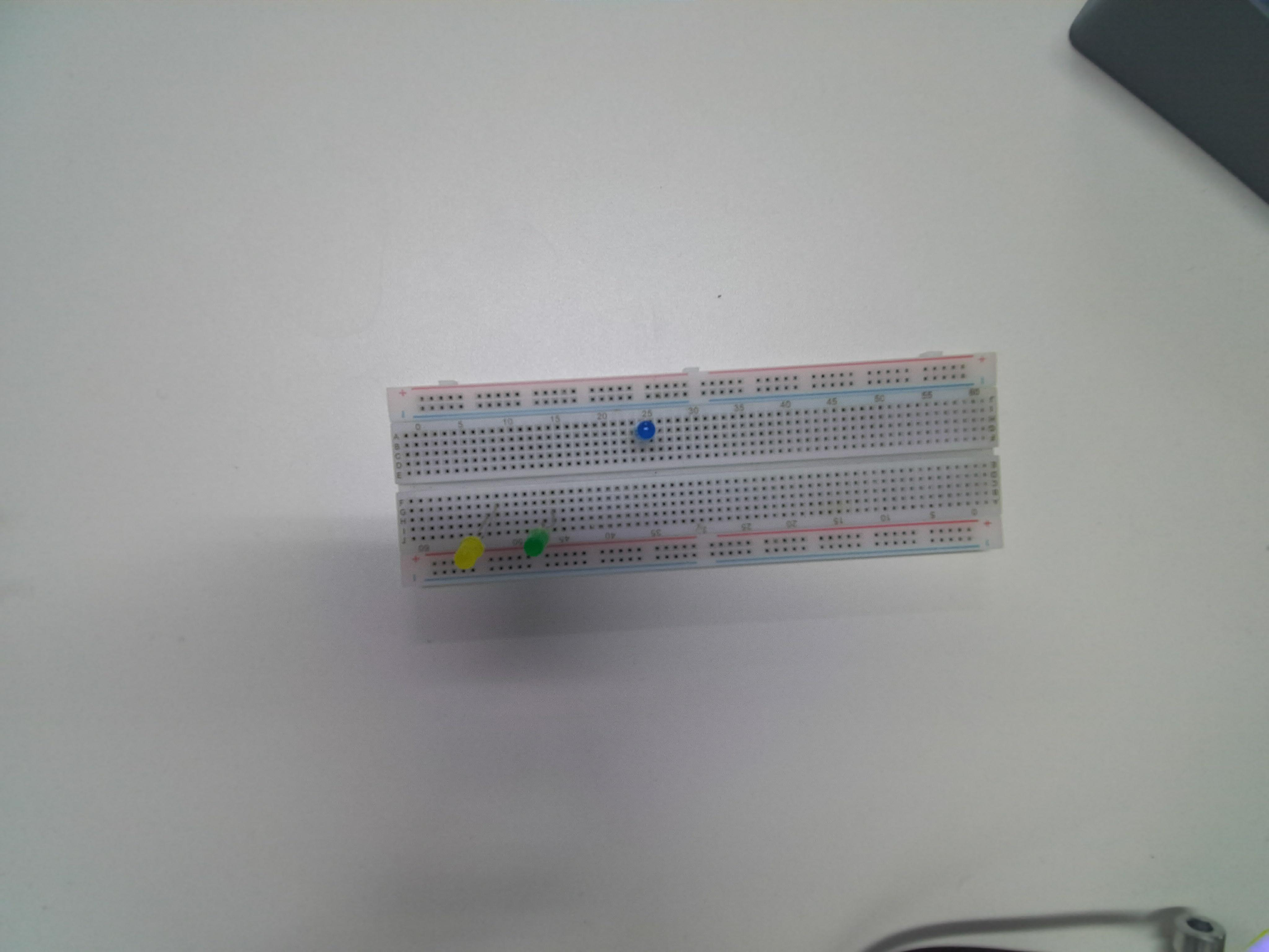base: (383, 353, 1006, 591)
blue-led: (634, 416, 656, 441)
green-led: (517, 529, 553, 563)
yellow-led: (454, 536, 484, 573)
